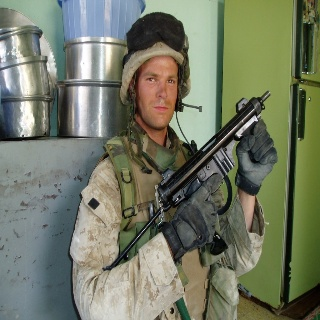rifle: (106, 90, 274, 270)
